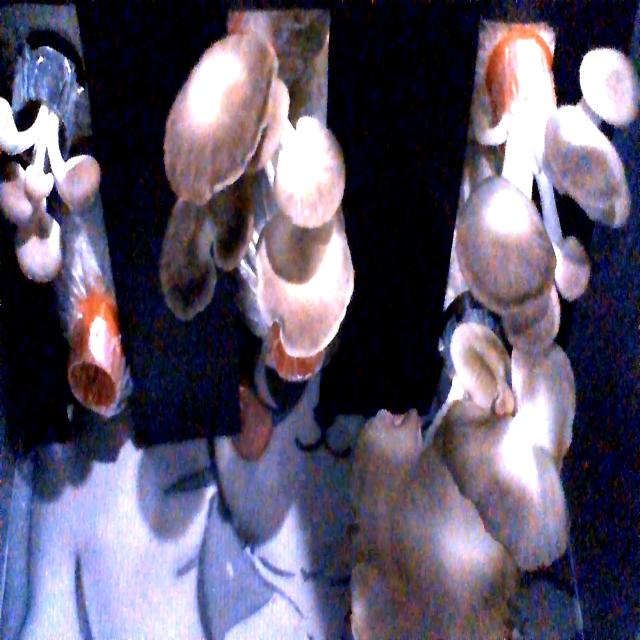big: (140, 43, 367, 369), (350, 330, 588, 640), (472, 35, 640, 346)
nfound: (52, 342, 120, 434)
small: (0, 70, 99, 299)
